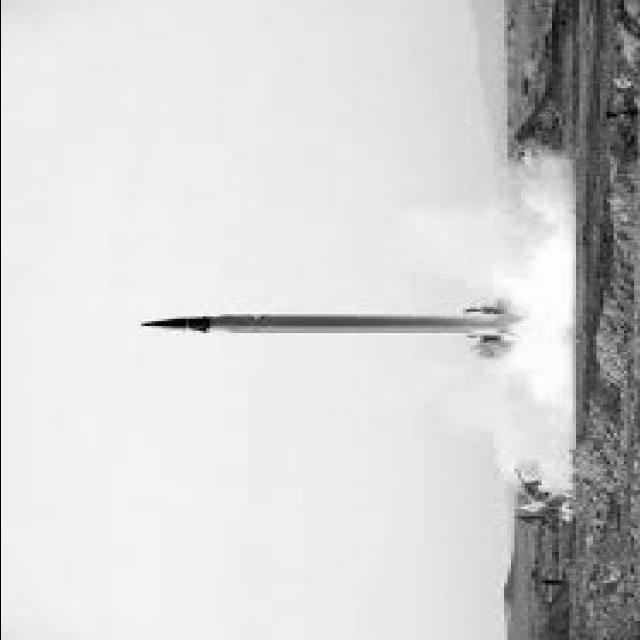Missile: (128, 306, 495, 341)
